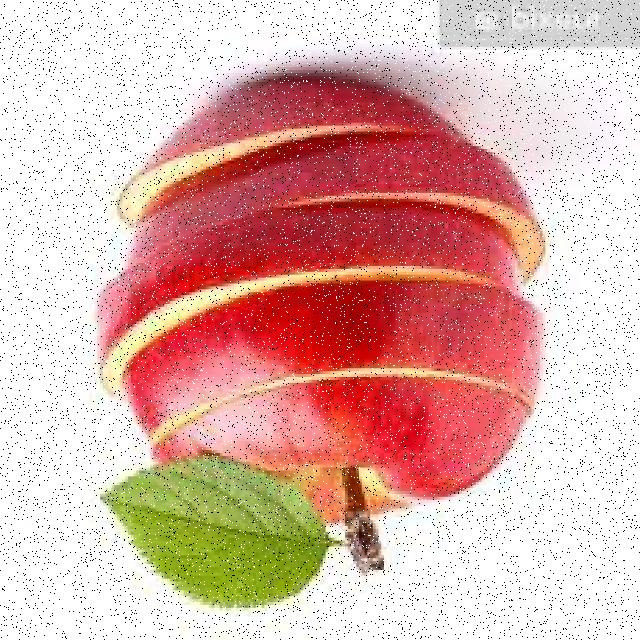Apple: (96, 74, 548, 608)
